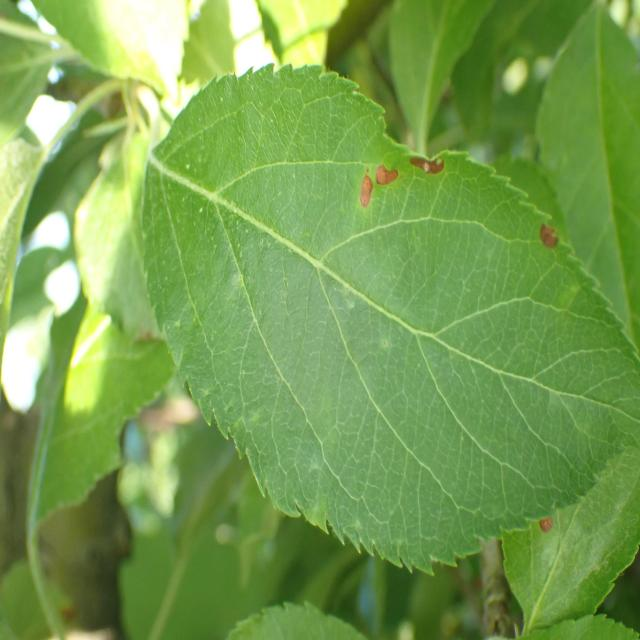frog-eye-leaf-spot: (139, 61, 640, 574)
